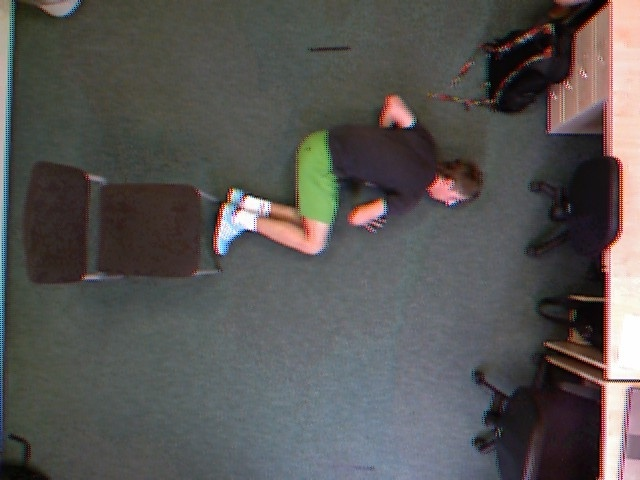fall: (209, 89, 497, 261)
